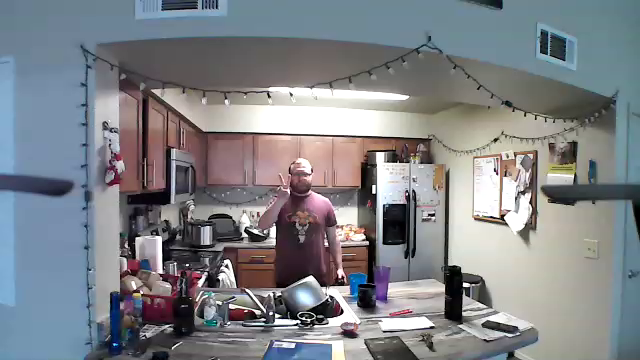peace: (273, 171, 295, 206)
